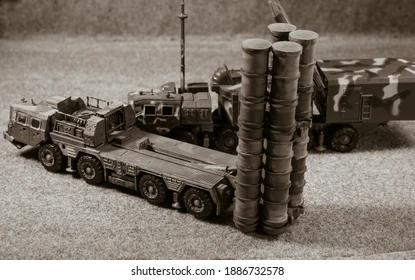MIL_SAM_TEL: (0, 21, 320, 235)
